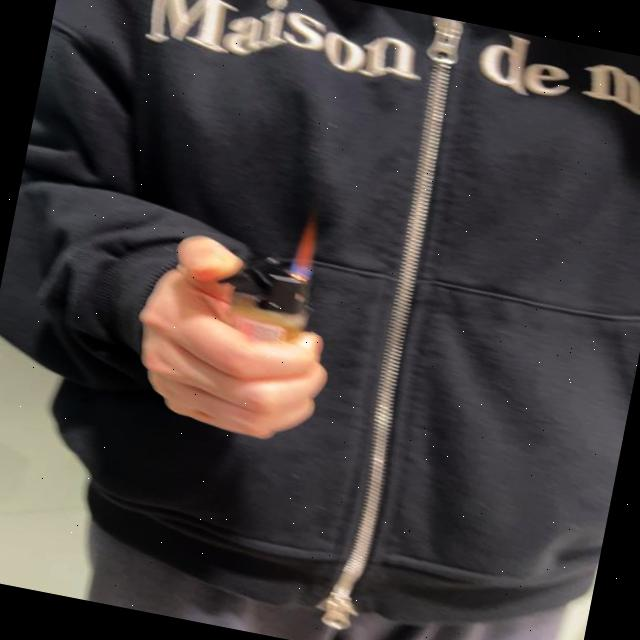fire: (288, 219, 322, 280)
